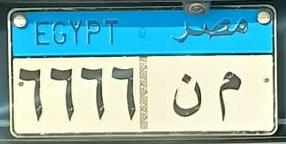6: (15, 63, 44, 122), (110, 63, 139, 120), (78, 62, 106, 121), (47, 64, 75, 122)
meem: (215, 68, 243, 123)
noon: (171, 68, 205, 121)
